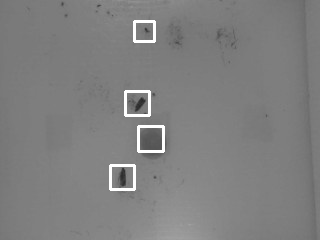insect: (133, 94, 147, 115), (117, 165, 128, 188)
